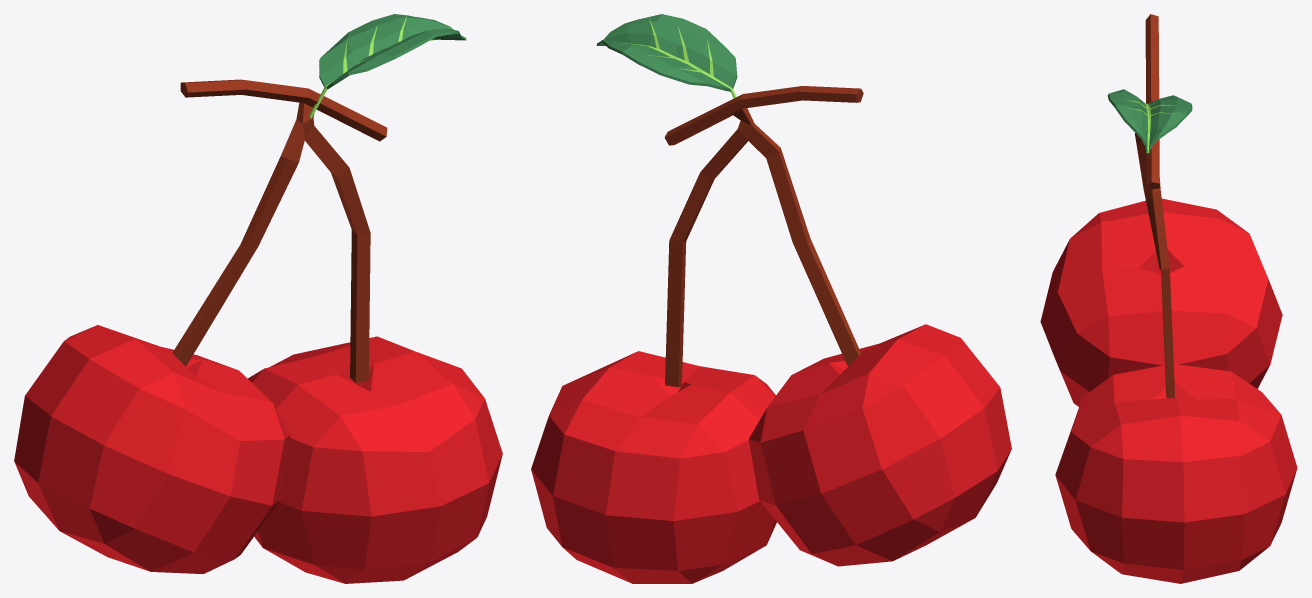
File: cherry.fbx
3 renders of one model, left to right at view 1: azimuth 30°, elevation 25°; view 2: azimuth 150°, elevation 25°; view 3: azimuth 270°, elevation 25°, orthographic. The views are drawn at different scales.
Parts seen in each view (by area): view 1: Cube.001; view 2: Cube.001; view 3: Cube.001.
Boxes of the visible parts, left/top/right/bottom form: Cube.001: left=14, top=14, right=502, bottom=583; Cube.001: left=531, top=14, right=1011, bottom=583; Cube.001: left=1040, top=14, right=1297, bottom=583.
Size of the model in its own units: 171 by 195 by 95.44.
